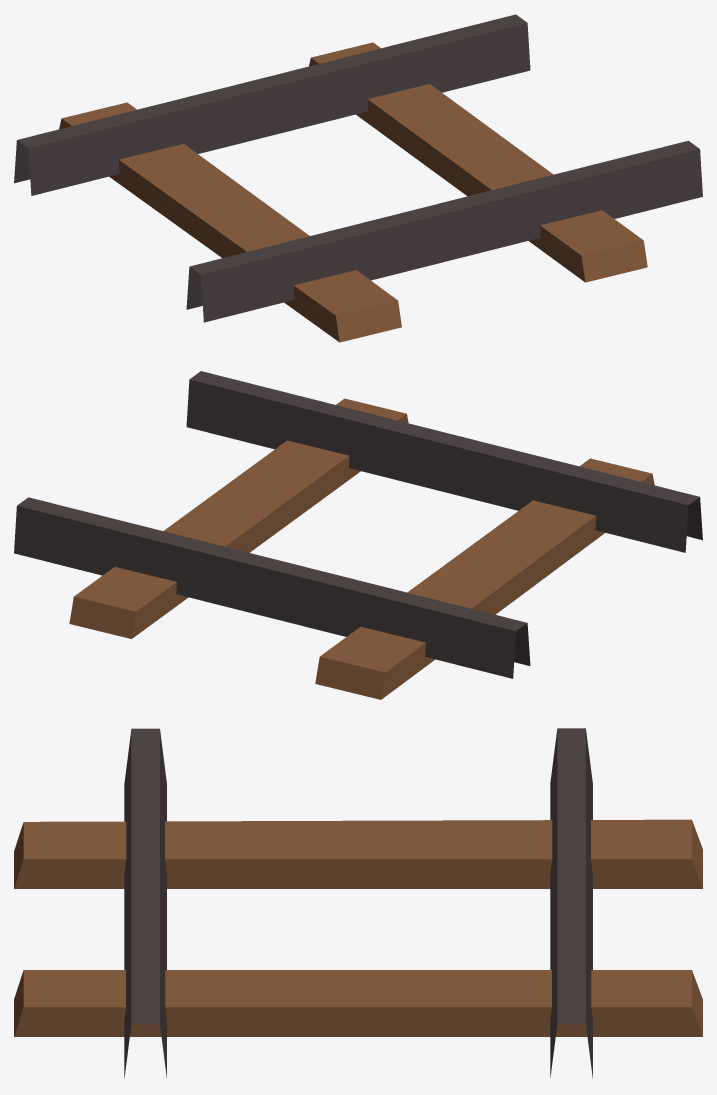
The model's file is track#001.glb.
3 views of the same model, one above another, from view 1: azimuth 30°, elevation 25°; view 2: azimuth 150°, elevation 25°; view 3: azimuth 270°, elevation 25° (orthographic). The views are drawn at different scales.
Parts seen in each view (by area): view 1: huitugou_2103_43.001; view 2: huitugou_2103_43.001; view 3: huitugou_2103_43.001.
Part boxes in pixels (bbox=[...]): huitugou_2103_43.001: bbox=[14, 14, 702, 342]; huitugou_2103_43.001: bbox=[14, 371, 702, 699]; huitugou_2103_43.001: bbox=[14, 728, 702, 1078].
Size of the model in its own units: 2.5 by 0.2828 by 2.42.
